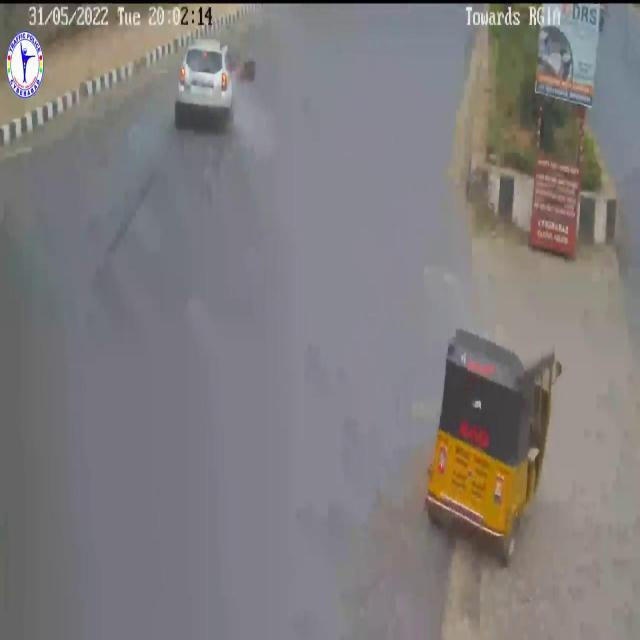accident: (169, 33, 259, 135)
